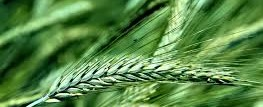Healthy Wheat: (47, 53, 246, 98)
